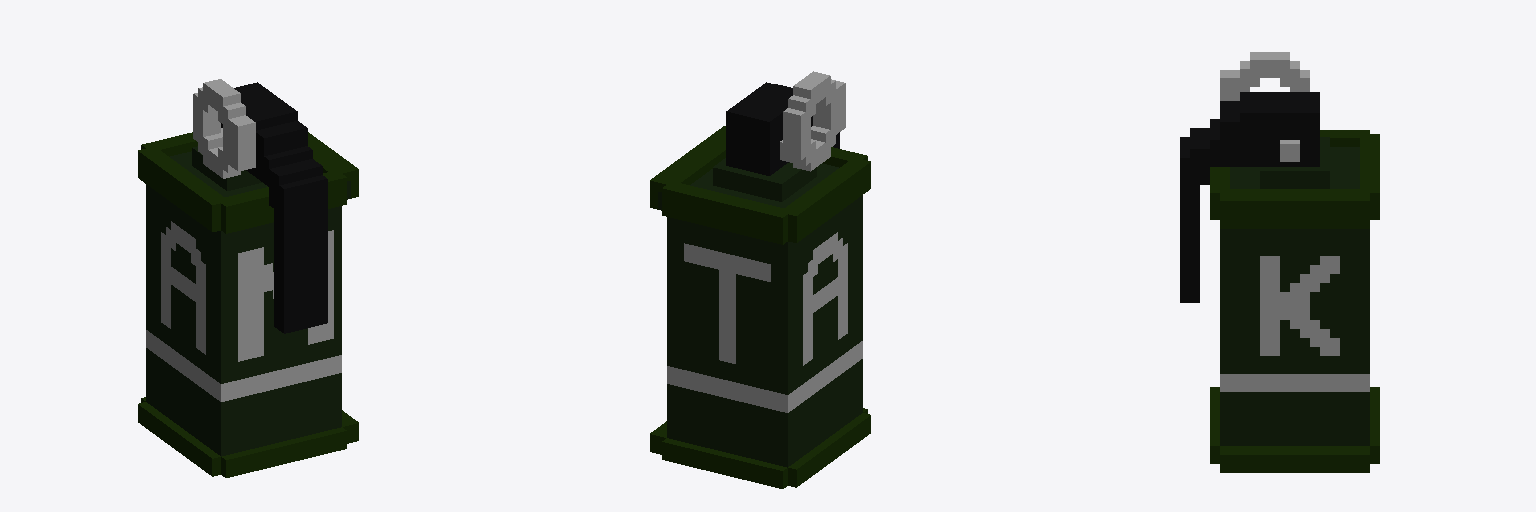
The picture shows the model from 3 angles: view 1: azimuth 30°, elevation 25°; view 2: azimuth 150°, elevation 25°; view 3: azimuth 270°, elevation 25°; orthographic projection.
Parts seen in each view (by area): view 1: TankGranada; view 2: TankGranada; view 3: TankGranada.
Part boxes in pixels (x1,y1,x2,y2): TankGranada: (138,79,358,477); TankGranada: (650,71,870,488); TankGranada: (1180,52,1379,472).
Bounding box in the file's own units: 1.7 × 4 × 2.
1 materials, 1 textured.